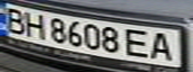0: (81, 21, 103, 52)
6: (63, 19, 84, 48)
8: (100, 24, 124, 55), (45, 16, 69, 44)
A: (148, 29, 178, 62)
B: (0, 5, 30, 35)
E: (124, 27, 154, 60)
H: (21, 10, 48, 39)
